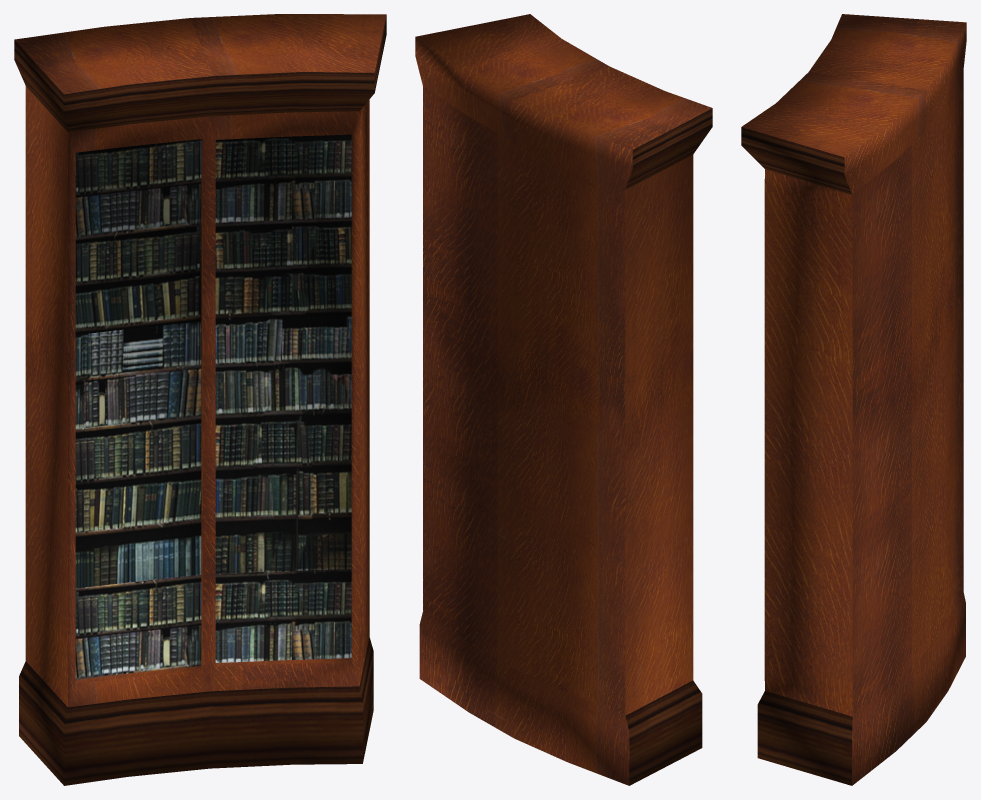
File: Bookcase_round_Short2.fbx
3 renders of one model, left to right at view 1: azimuth 30°, elevation 25°; view 2: azimuth 150°, elevation 25°; view 3: azimuth 270°, elevation 25°, orthographic. The views are drawn at different scales.
Visible parts, largest first — view 1: Bookcase_Shortcurved1; view 2: Bookcase_Shortcurved1; view 3: Bookcase_Shortcurved1.
Part boxes in pixels (<box>): Bookcase_Shortcurved1: <box>14,14,386,785</box>; Bookcase_Shortcurved1: <box>415,14,712,785</box>; Bookcase_Shortcurved1: <box>741,14,966,785</box>.
Bounding box in the file's own units: 225 × 463 × 150.
